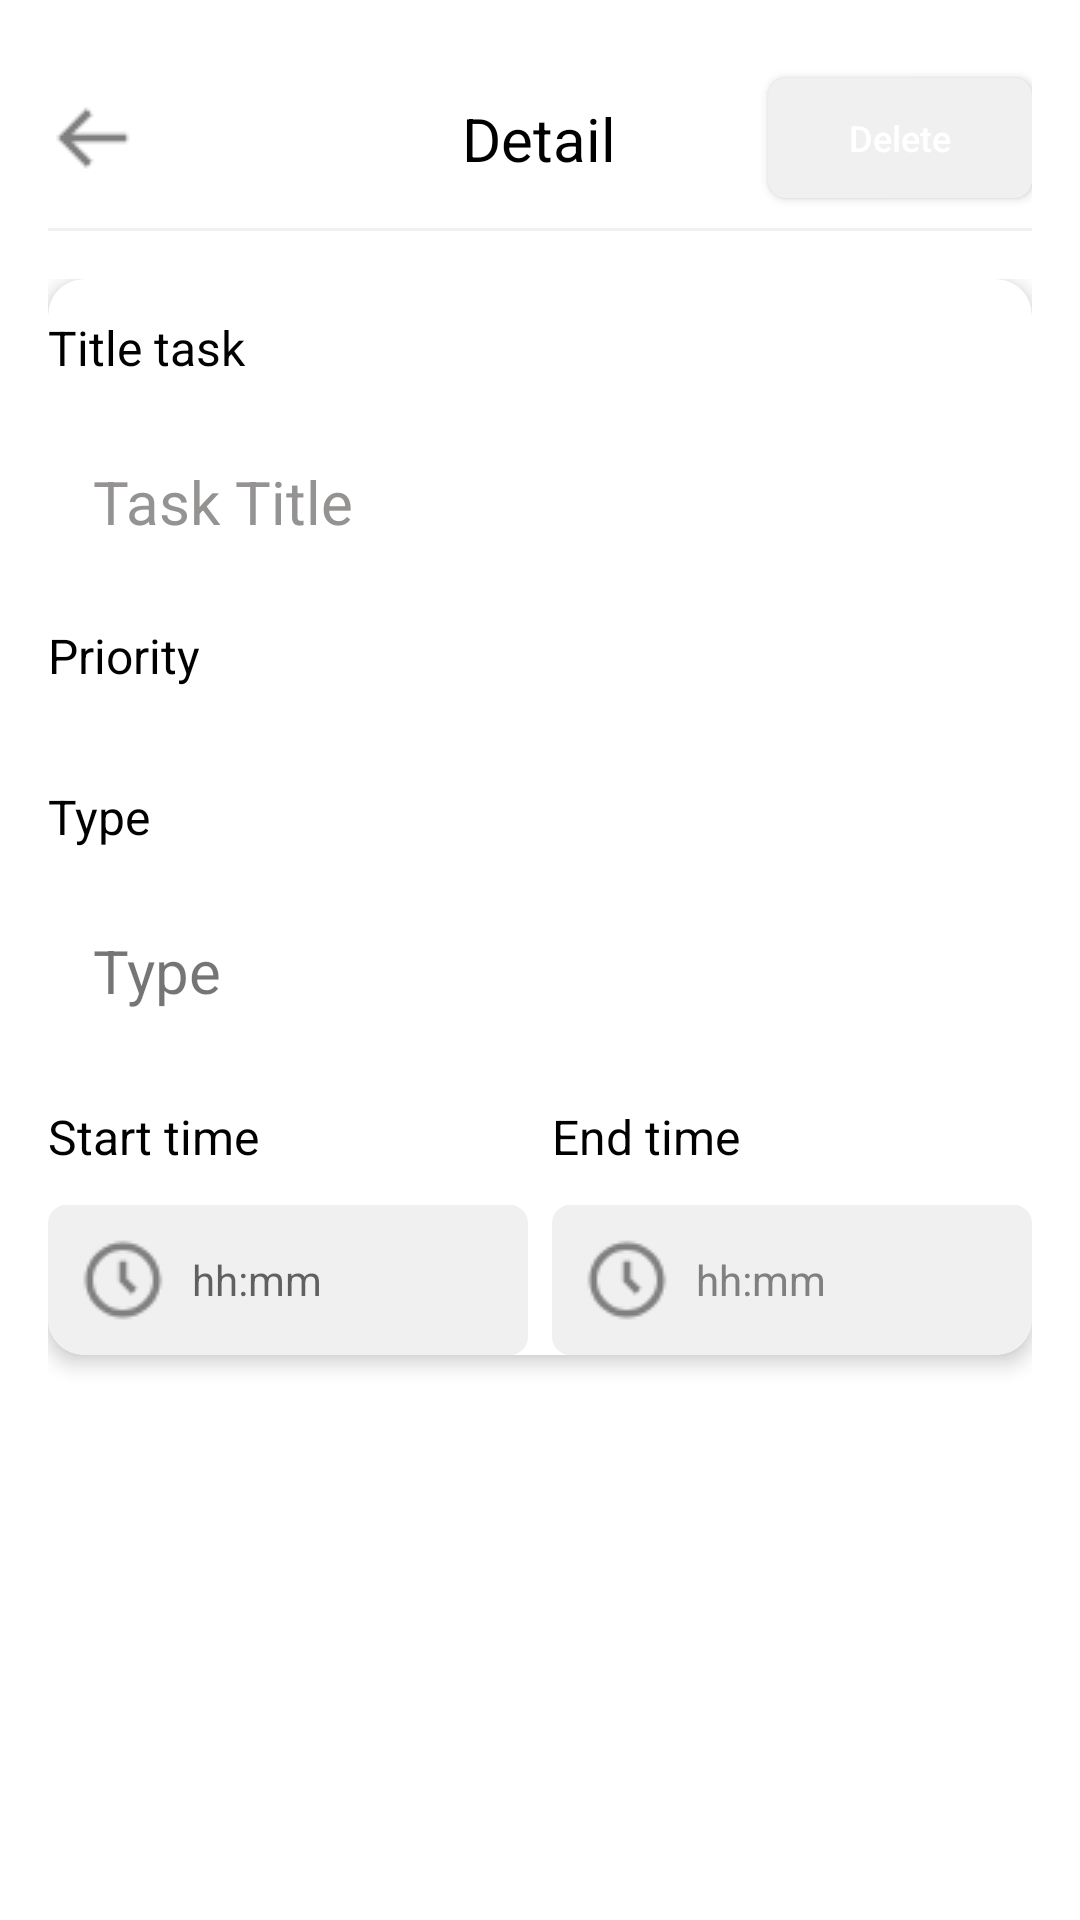

Where to tap for icons on this 1080w x 1920h app screen, as point (x, y):
arrow back: point (93, 138)
